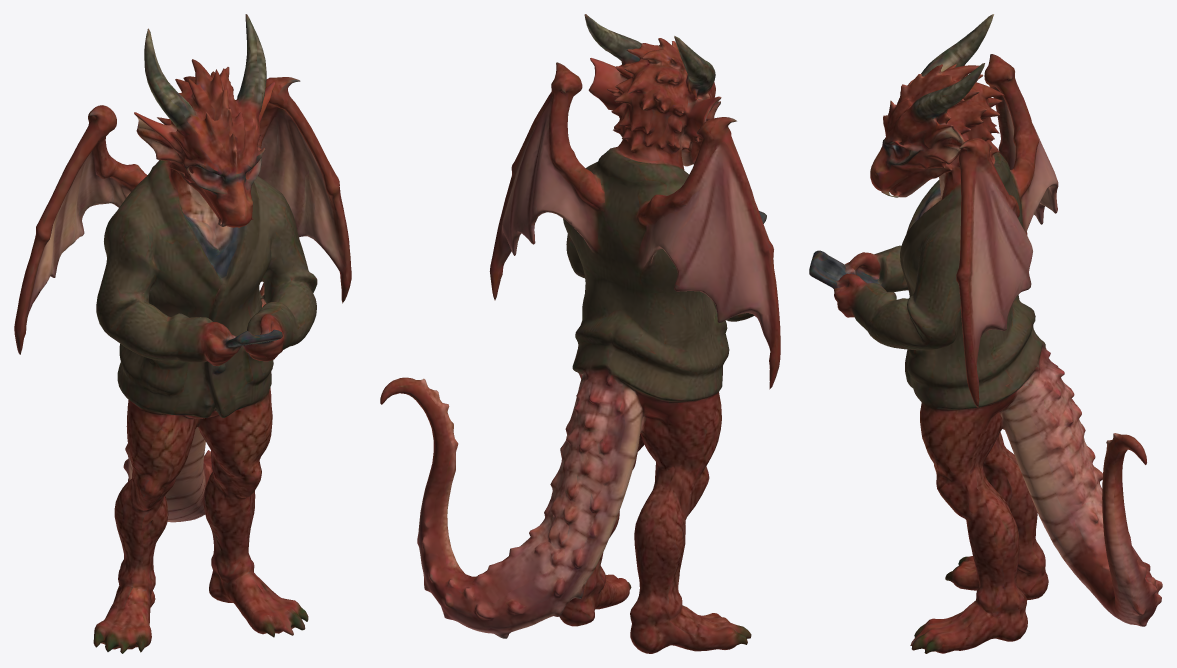
The model's file is dragon.glb.
3 views of the same model, side by side, from view 1: azimuth 30°, elevation 25°; view 2: azimuth 150°, elevation 25°; view 3: azimuth 270°, elevation 25° (orthographic). The views are drawn at different scales.
Bounding box in the file's own units: 0.5039 × 0.8742 × 0.4778.
1 material, 1 textured.
